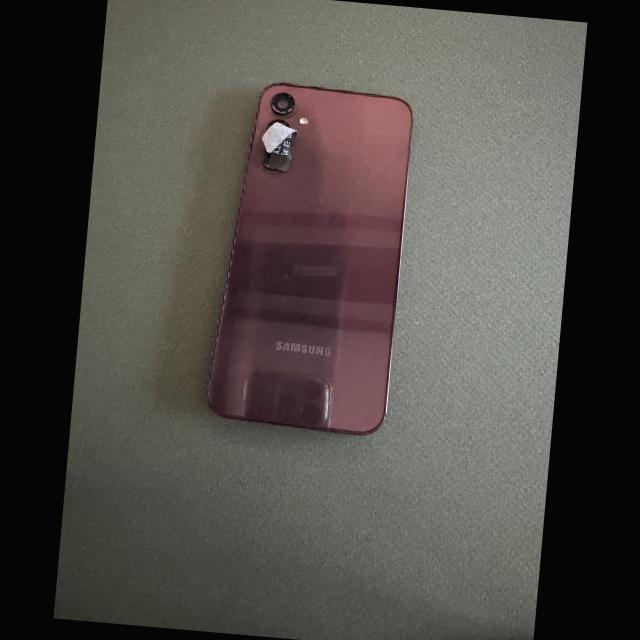lens: (272, 93, 295, 116), (267, 121, 290, 131), (263, 154, 270, 168)
phone: (207, 82, 412, 435)
sticker: (266, 130, 297, 171), (261, 122, 297, 153)
